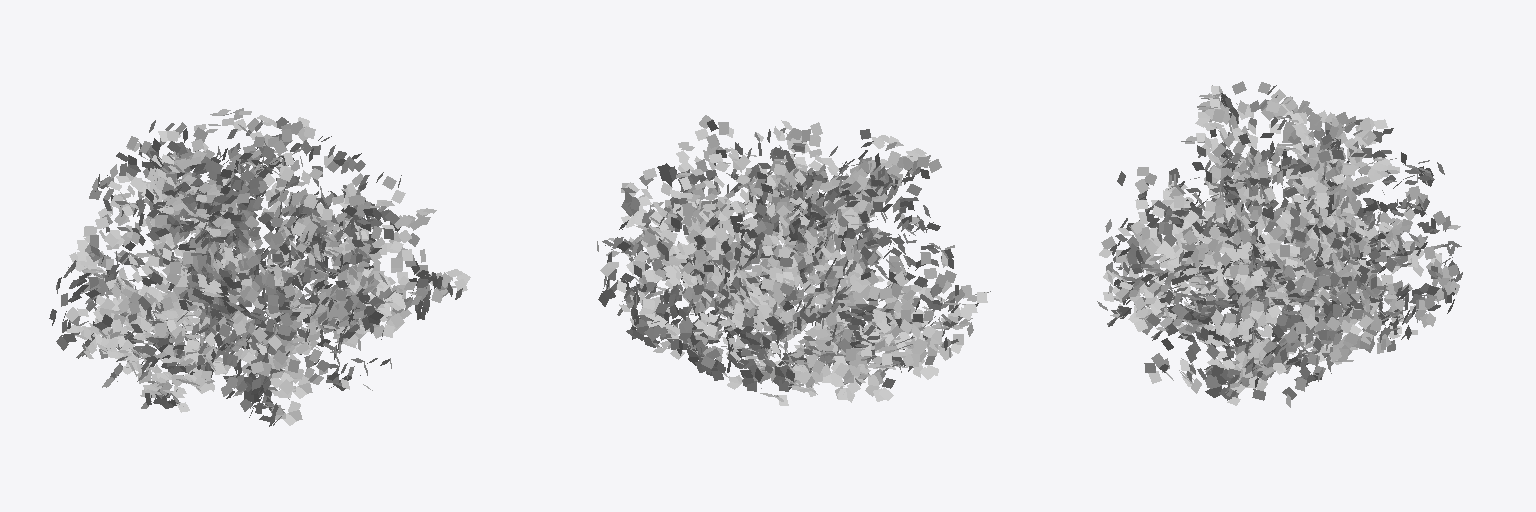
The model's file is leaves.obj.
The picture shows the model from 3 angles: view 1: azimuth 30°, elevation 25°; view 2: azimuth 150°, elevation 25°; view 3: azimuth 270°, elevation 25°; orthographic projection.
Visible parts, largest first — view 1: tree_polySurface1; view 2: tree_polySurface1; view 3: tree_polySurface1.
Part boxes in pixels (bbox=[...]): tree_polySurface1: bbox=[49, 108, 470, 426]; tree_polySurface1: bbox=[597, 115, 990, 405]; tree_polySurface1: bbox=[1097, 81, 1462, 407].
Size of the model in its own units: 42.41 by 26.38 by 35.41.